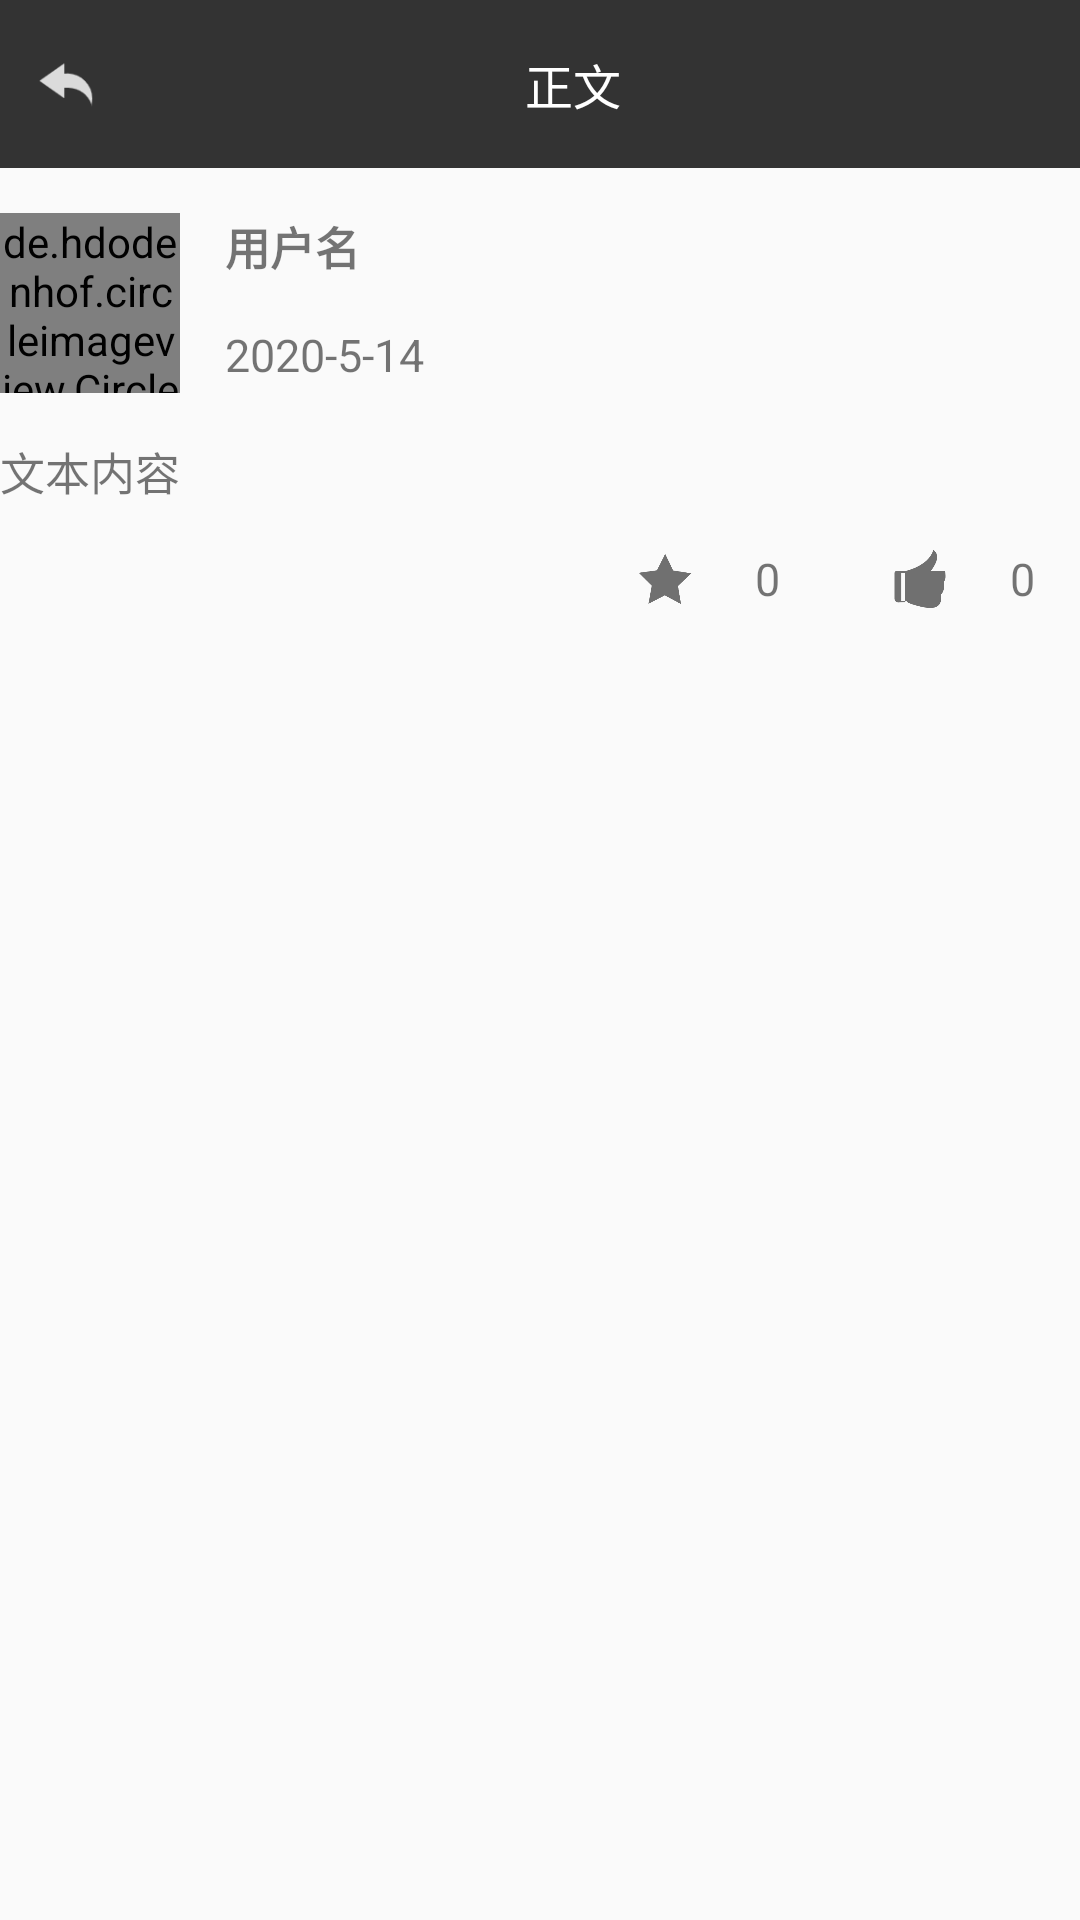

Icons on this 1080 x 1920 Android screen, each with the point to tap as point (x, y):
back: point (66, 84)
collection: point (665, 579)
like: point (920, 579)
